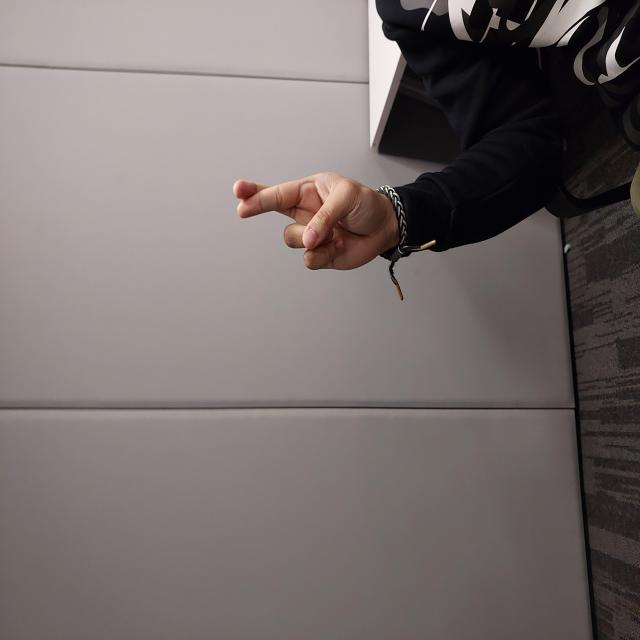R: (370, 232, 468, 386)
